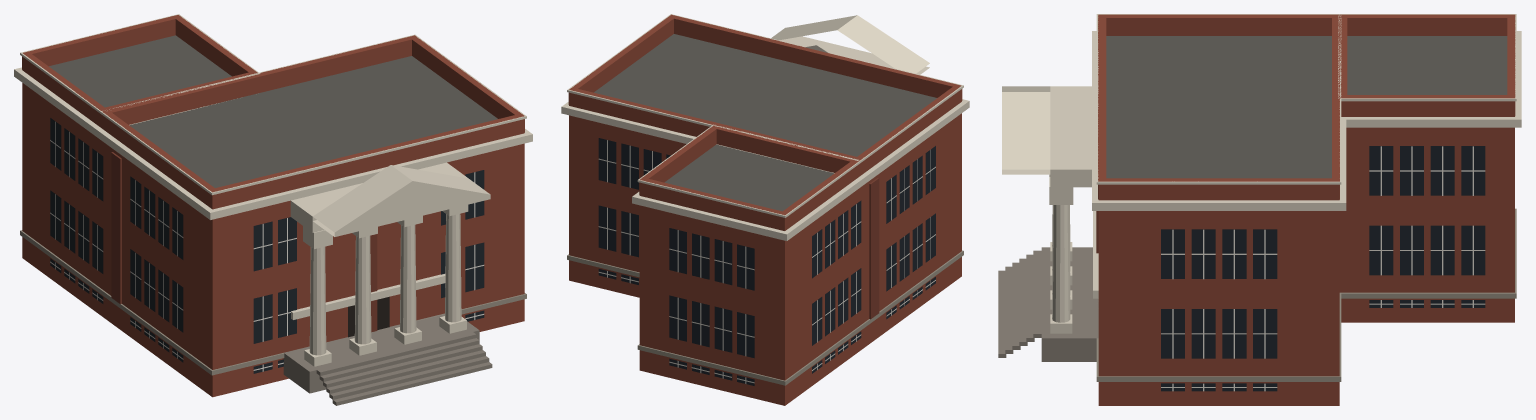
Rendered from state-blind-school-colored-1913.glb.
3 renders of one model, left to right at view 1: azimuth 30°, elevation 25°; view 2: azimuth 150°, elevation 25°; view 3: azimuth 270°, elevation 25°, orthographic. The views are drawn at different scales.
Visible parts, largest first — view 1: kit-state-blind-school-colored-1913; view 2: kit-state-blind-school-colored-1913; view 3: kit-state-blind-school-colored-1913.
Part boxes in pixels (x1,y1,x2,y2): kit-state-blind-school-colored-1913: [14, 14, 532, 405]; kit-state-blind-school-colored-1913: [561, 14, 969, 405]; kit-state-blind-school-colored-1913: [998, 14, 1521, 405].
Size of the model in its own units: 18.6 by 11.6 by 23.87.
